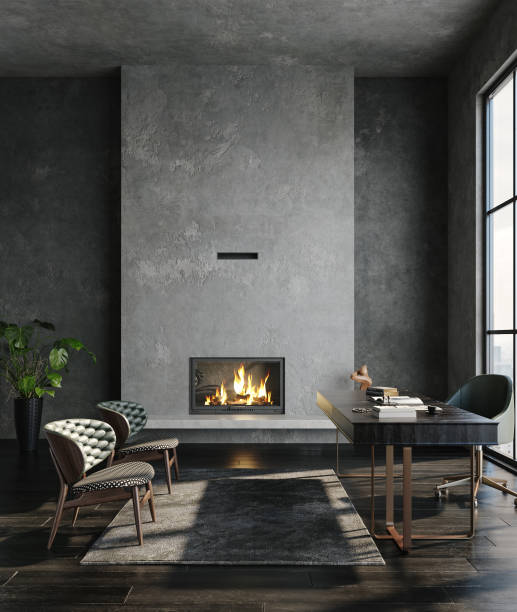chair: (41, 415, 160, 551), (433, 370, 517, 508), (94, 396, 184, 494)
small plant: (0, 313, 93, 450)
table: (311, 382, 501, 560)
